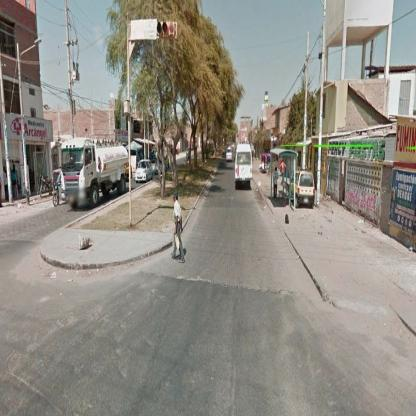Moto: (40, 173, 54, 199)
Peaton: (172, 191, 186, 266), (273, 165, 279, 203)
Pista: (188, 157, 278, 250)
Vehiculo: (61, 138, 131, 207), (290, 169, 315, 210), (236, 144, 254, 189), (137, 161, 154, 183), (54, 168, 63, 206), (226, 148, 233, 161)
